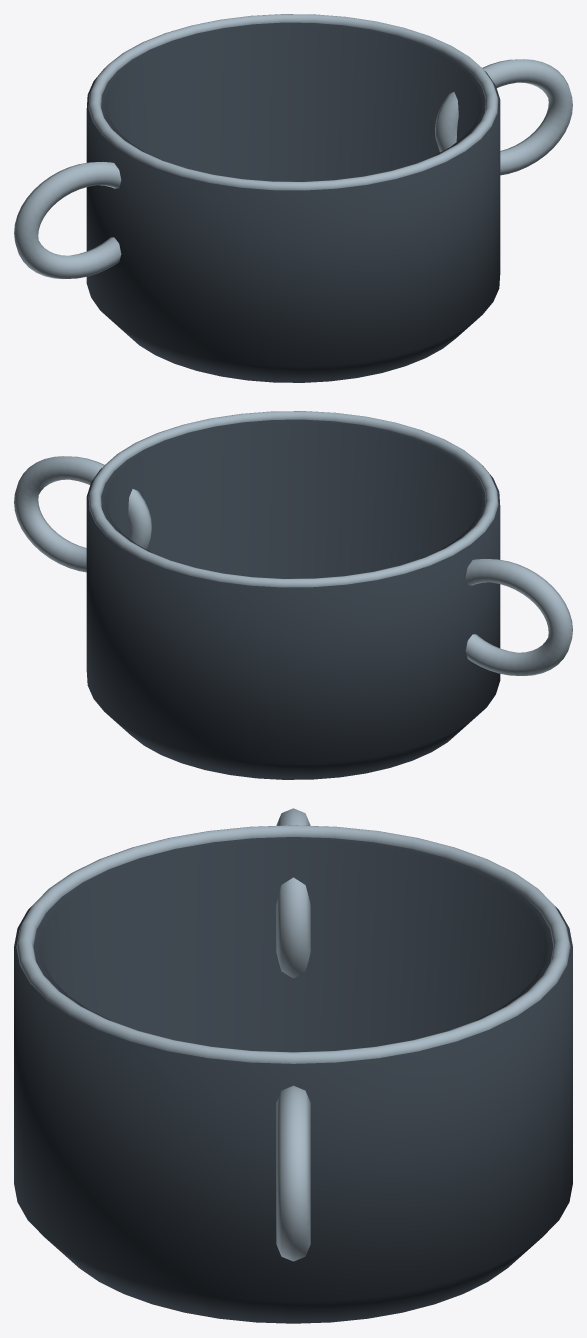
File: POT.glb
The picture shows the model from 3 angles, top to bottom: view 1: azimuth 30°, elevation 25°; view 2: azimuth 150°, elevation 25°; view 3: azimuth 270°, elevation 25°; orthographic projection. The views are drawn at different scales.
Parts seen in each view (by area): view 1: POT; view 2: POT; view 3: POT.
Part boxes in pixels (box(x1,y1,x2,y2)): POT: box(14, 14, 572, 382); POT: box(14, 411, 572, 779); POT: box(14, 808, 572, 1323).
Bounding box in the file's own units: 0.714 × 0.257 × 0.46.
